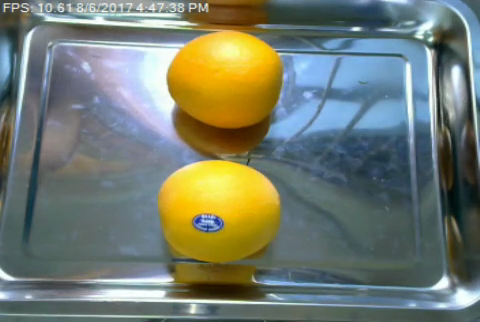Orange: (157, 159, 283, 262), (165, 30, 285, 128)
